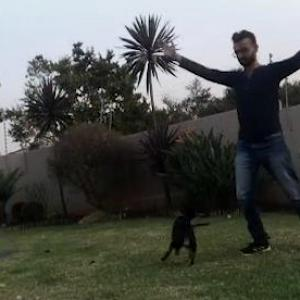takeoff: (163, 16, 299, 242)
